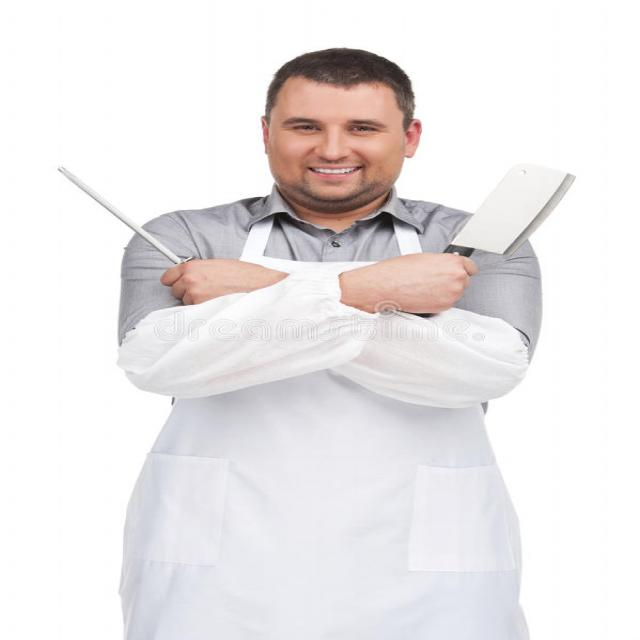knife: (423, 157, 574, 313)
